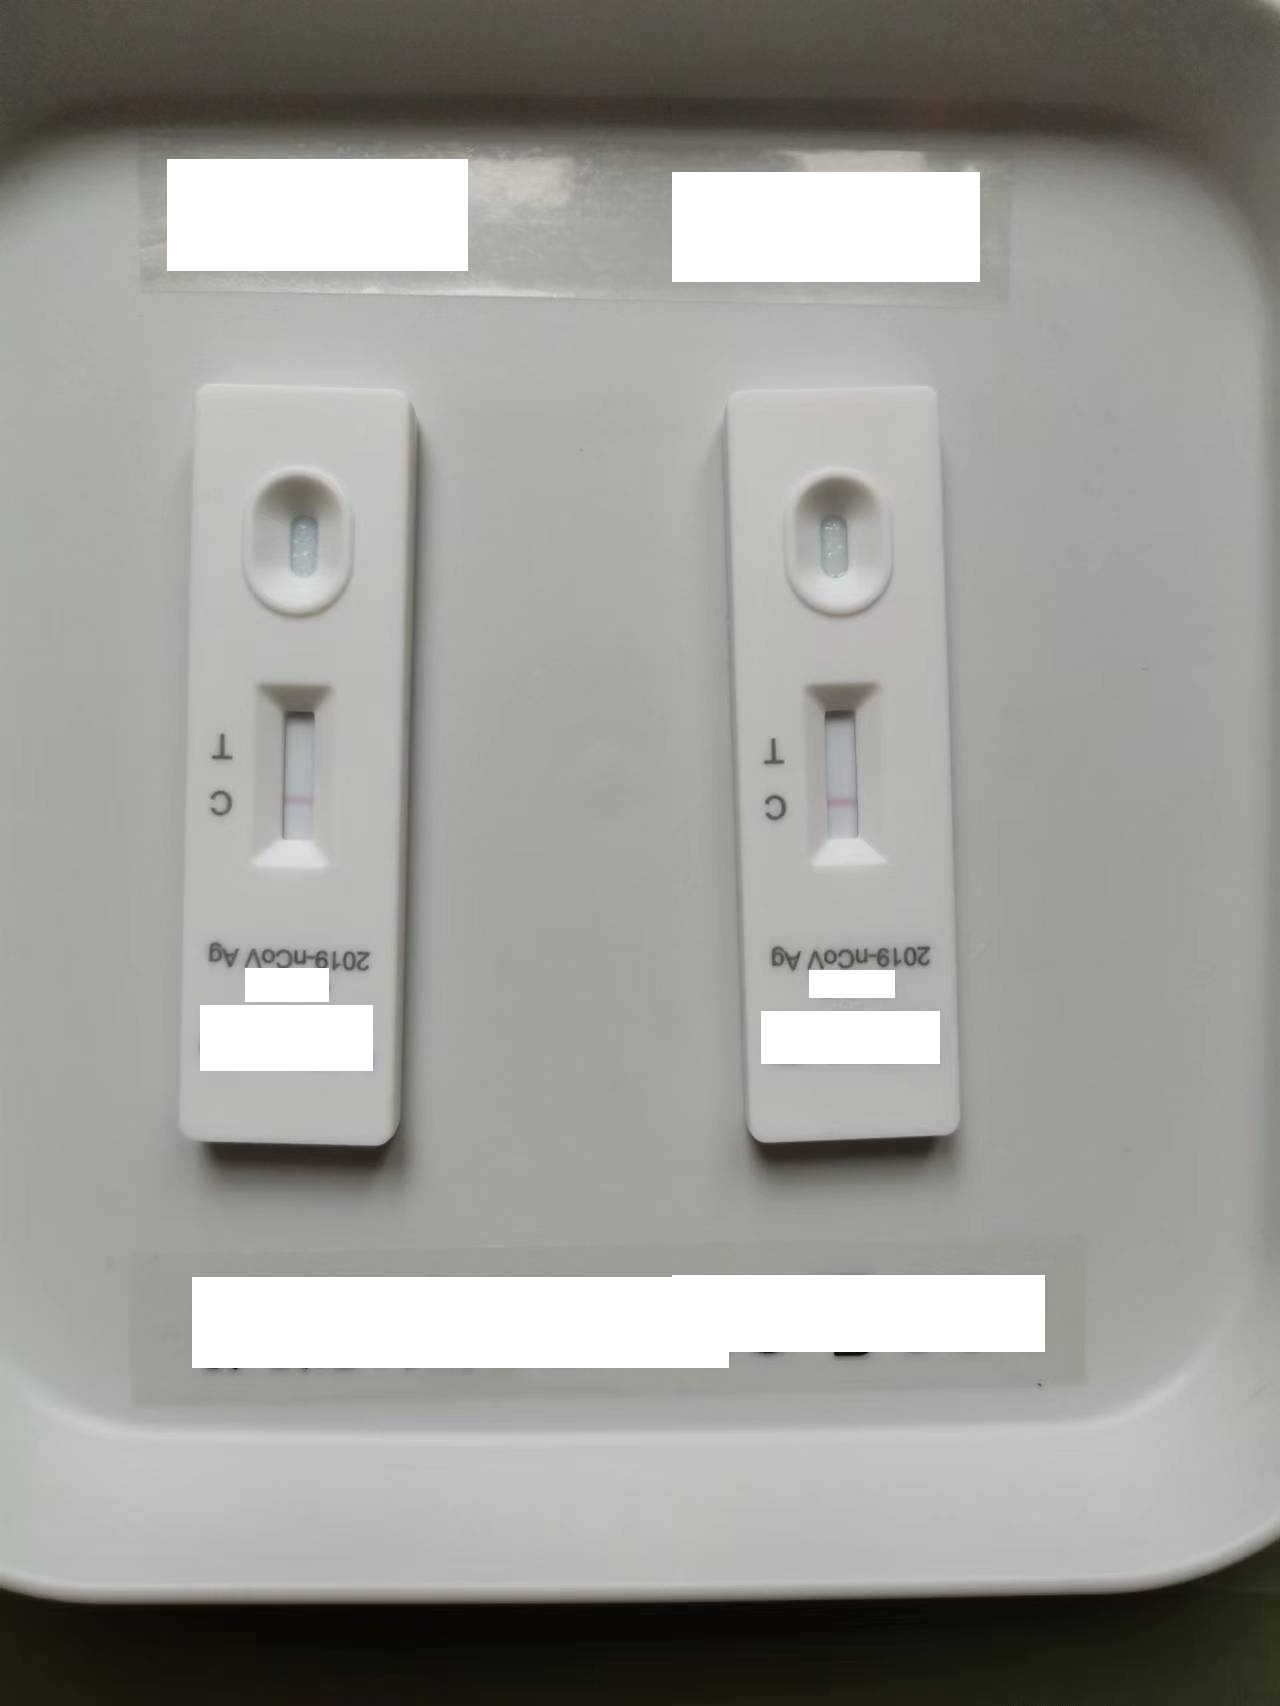negative: (804, 684, 883, 863), (257, 682, 332, 868)
